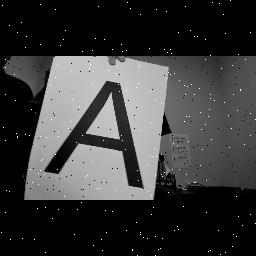a: (40, 74, 150, 192)
